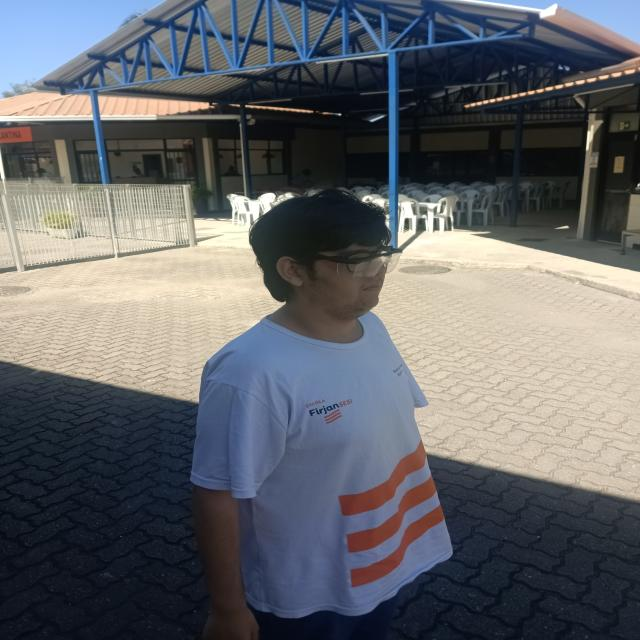oculos-epi: (289, 247, 403, 280)
